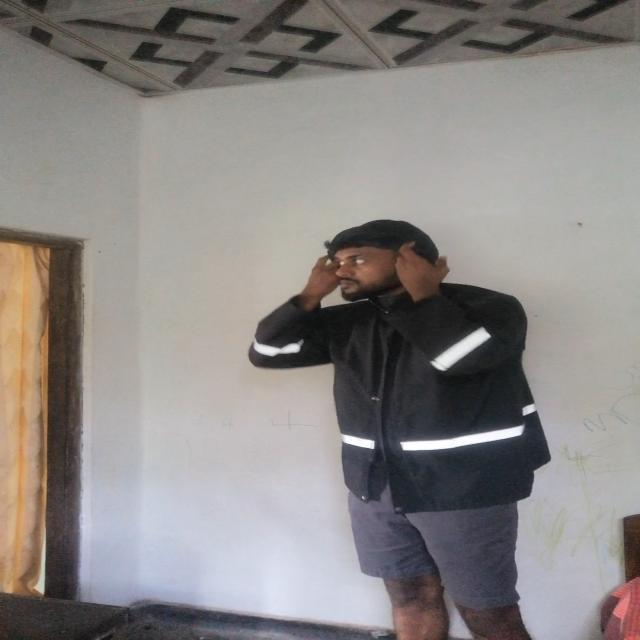Jacket_Wearer: (255, 217, 569, 501)
